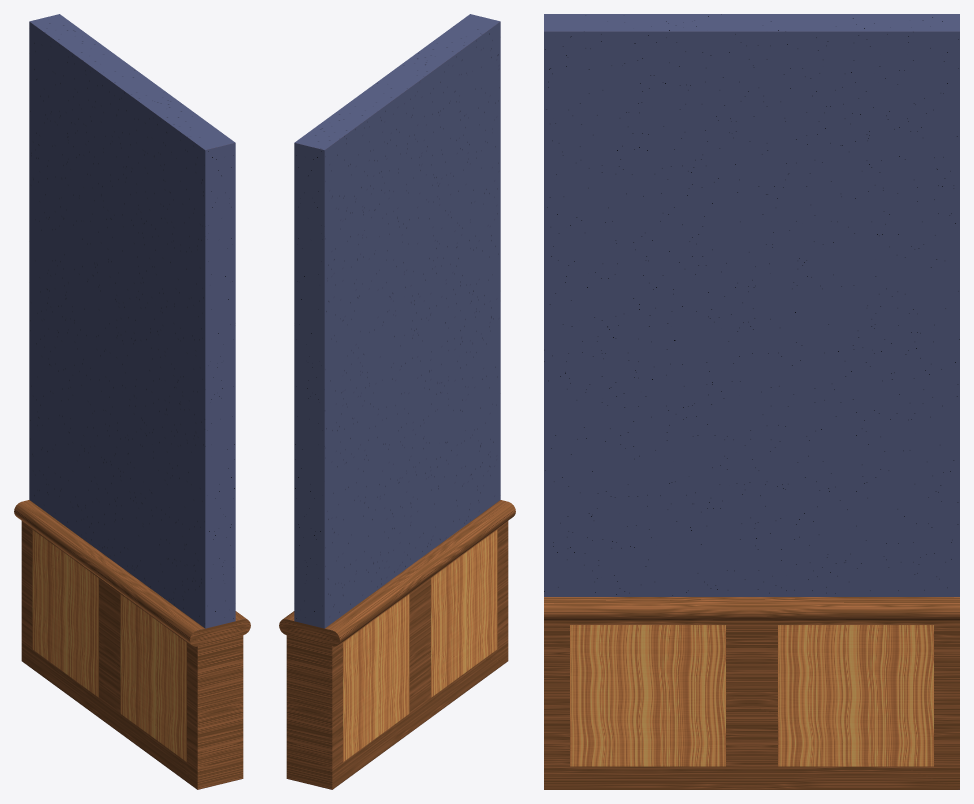
Rendered from ParedInterior.fbx.
3 renders of one model, left to right at view 1: azimuth 30°, elevation 25°; view 2: azimuth 150°, elevation 25°; view 3: azimuth 270°, elevation 25°, orthographic. The views are drawn at different scales.
Parts seen in each view (by area): view 1: ParedInterior; view 2: ParedInterior; view 3: ParedInterior.
Part boxes in pixels (x1=…): ParedInterior: x1=14, y1=14, x2=250, y2=789; ParedInterior: x1=279, y1=14, x2=515, y2=789; ParedInterior: x1=544, y1=14, x2=959, y2=789.
Size of what is drawn, in the model's own units: 200 by 40 by 400.
